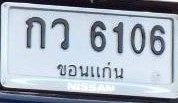txt01: (24, 15, 47, 50)
txt32: (51, 17, 71, 50)
